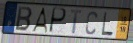A: (30, 7, 48, 34)
B: (14, 6, 34, 33)
C: (84, 10, 99, 36)
L: (101, 11, 114, 37)
P: (47, 7, 67, 35)
T: (69, 9, 83, 35)
